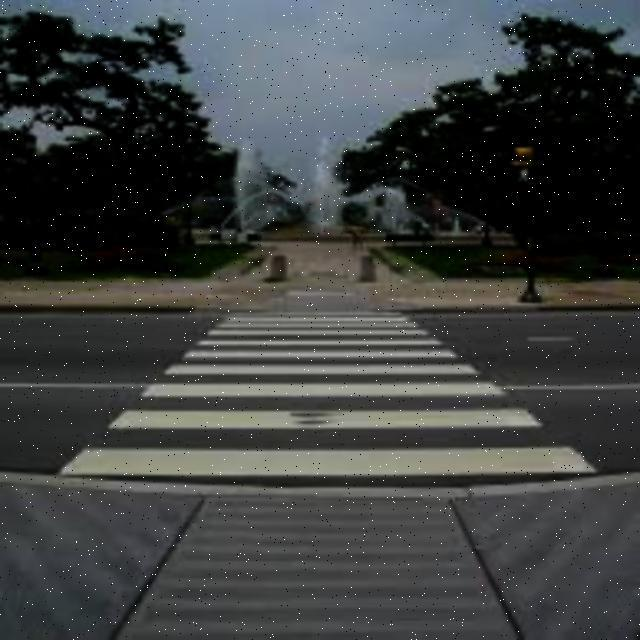crosswalk: (0, 308, 637, 496)
